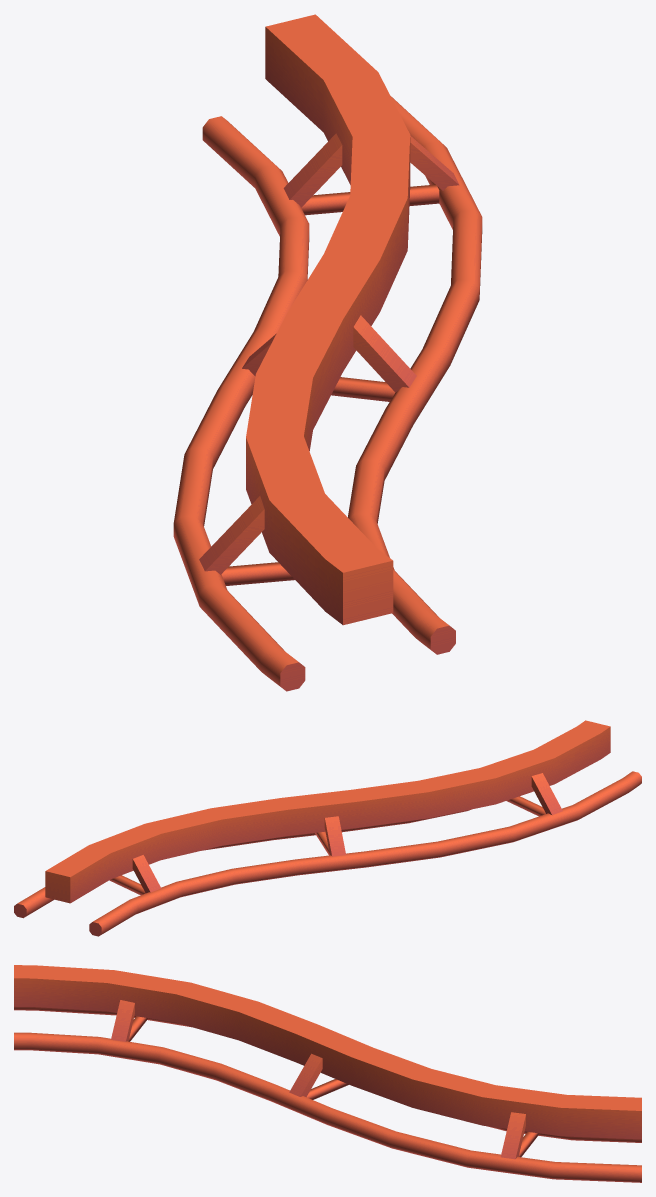
File: coaster-hanging-curve.glb
The picture shows the model from 3 angles, top to bottom: view 1: azimuth 30°, elevation 25°; view 2: azimuth 150°, elevation 25°; view 3: azimuth 270°, elevation 25°; orthographic projection. The views are drawn at different scales.
Parts seen in each view (by area): view 1: coaster-hanging-curve; view 2: coaster-hanging-curve; view 3: coaster-hanging-curve.
Boxes of the visible parts, x1,y1,x2,y2 form: coaster-hanging-curve: (173,14,482,691); coaster-hanging-curve: (14,720,641,936); coaster-hanging-curve: (14,965,641,1182).
Size of the model in its own units: 8.1 by 1.2 by 12.
Materials: 1 (1 with a texture image).
